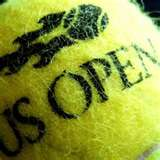tennis ball: (1, 1, 160, 160)
